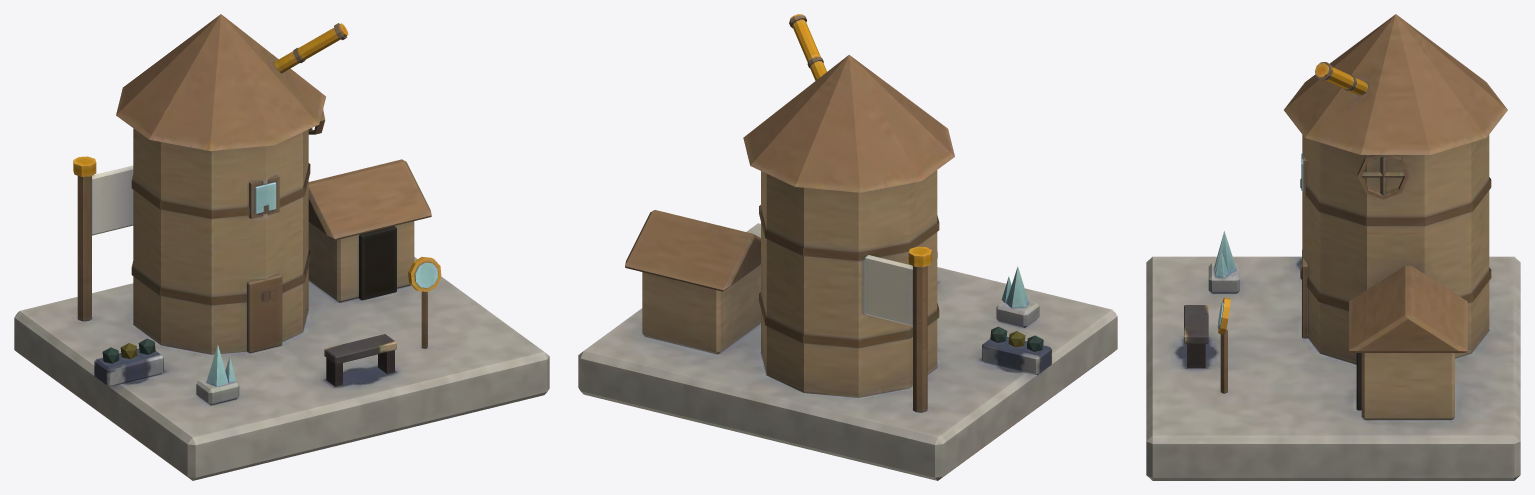
File: observatory-5.glb
The picture shows the model from 3 angles, left to right: view 1: azimuth 30°, elevation 25°; view 2: azimuth 150°, elevation 25°; view 3: azimuth 270°, elevation 25°; orthographic projection. The views are drawn at different scales.
Visible parts, largest first — view 1: observatory-5; view 2: observatory-5; view 3: observatory-5.
Part boxes in pixels (x1,y1,x2,y2): observatory-5: [14, 14, 549, 480]; observatory-5: [578, 14, 1117, 480]; observatory-5: [1146, 14, 1520, 480].
Bounding box in the file's own units: 1.43 × 1.28 × 1.2.
1 material, 1 textured.
